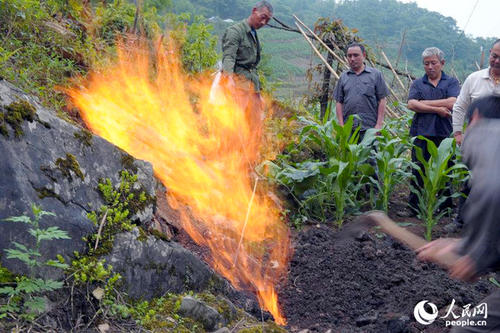fire: (85, 23, 295, 320)
